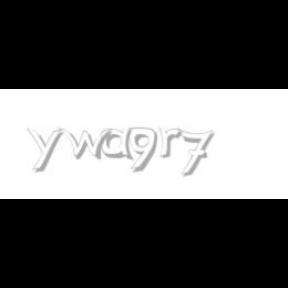7: (178, 128, 215, 178)
9: (128, 128, 158, 172)
a: (102, 128, 138, 160)
r: (158, 128, 186, 158)
w: (59, 128, 118, 160)
y: (27, 128, 67, 172)
